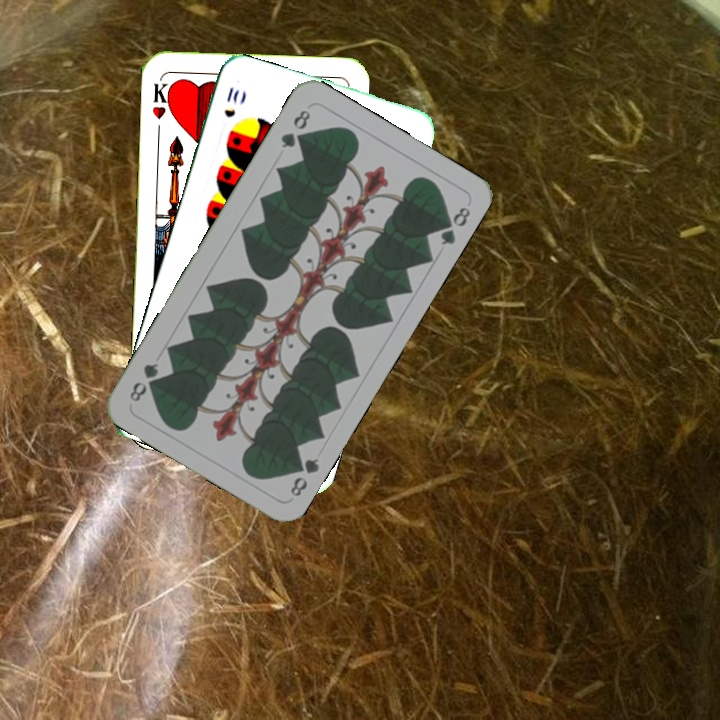G8: (276, 105, 313, 151), (286, 453, 322, 499)
HK: (148, 75, 175, 122)
S10: (220, 82, 242, 121)
